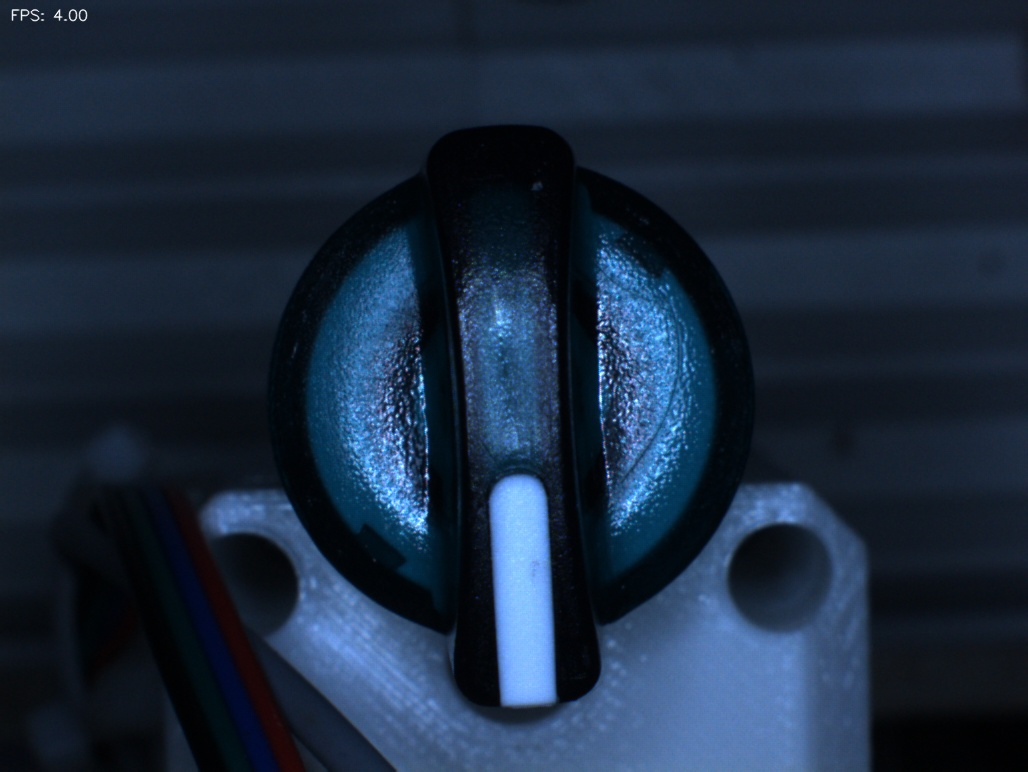PointNoir: (503, 533, 569, 607)
